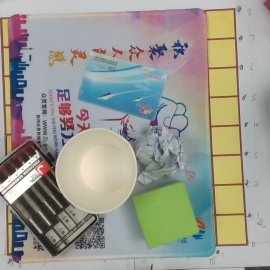card: (78, 51, 167, 121)
cup: (54, 127, 139, 218)
